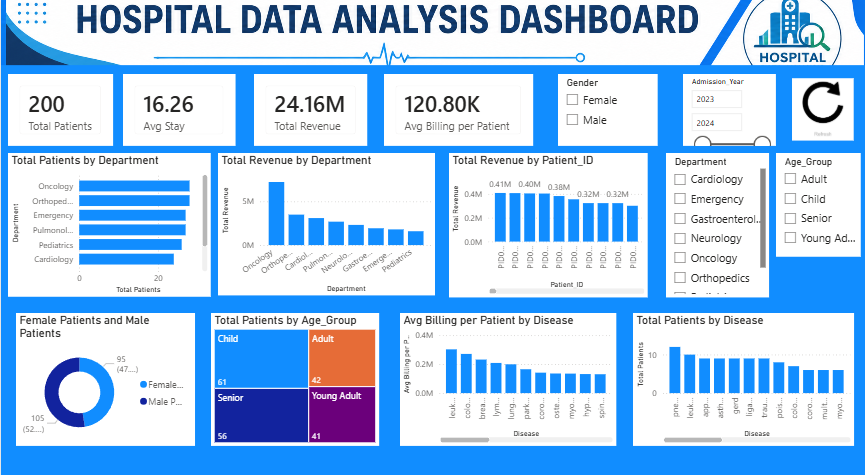

The page's visual inventory and layout, read from the dashboard file:
{"tool":"powerbi","page":{"name":"Page 1","canvas":[1280,720],"ordinal":0},"visuals":[{"type":"cardVisual","fields":{"Data":["cleaned_hospital_data.Total Patients"]},"box":[0,112,154.5,106.3],"z":0},{"type":"cardVisual","fields":{"Data":["cleaned_hospital_data.Avg Stay"]},"box":[180,112,165.8,106.3],"z":1000},{"type":"cardVisual","fields":{"Data":["cleaned_hospital_data.Total Revenue"]},"box":[372.8,112,167.3,106.3],"z":2000},{"type":"cardVisual","fields":{"Data":["cleaned_hospital_data.Avg Billing per Patient"]},"box":[564.2,112,219.7,106.3],"z":3000},{"type":"clusteredBarChart","fields":{"Category":["cleaned_hospital_data.Department"],"Y":["cleaned_hospital_data.Total Patients"]},"box":[0,228.2,309,212.6],"z":4000},{"type":"columnChart","fields":{"Category":["cleaned_hospital_data.Department"],"Y":["cleaned_hospital_data.Total Revenue"]},"box":[320.4,228.2,320.4,209.8],"z":5000},{"type":"columnChart","fields":{"Category":["cleaned_hospital_data.Patient_ID"],"Y":["cleaned_hospital_data.Total Revenue"]},"box":[660.6,228.2,293.4,212.6],"z":6000},{"type":"donutChart","fields":{"Y":["cleaned_hospital_data.Female Patients","cleaned_hospital_data.Male Patients"]},"box":[0,465.1,263.5,195.8],"z":7000},{"type":"clusteredColumnChart","fields":{"Y":["cleaned_hospital_data.Avg Billing per Patient"],"Category":["cleaned_hospital_data.Disease"]},"box":[554.2,464.9,318.9,195.6],"z":8000},{"type":"clusteredColumnChart","fields":{"Category":["cleaned_hospital_data.Disease"],"Y":["cleaned_hospital_data.Total Patients"]},"box":[907.2,464.9,326,195.6],"z":9000},{"type":"slicer","fields":{"Values":["cleaned_hospital_data.Department"]},"box":[980.9,228.2,151.7,212.6],"z":10000},{"type":"slicer","fields":{"Values":["cleaned_hospital_data.Gender"]},"box":[820.7,112,147.4,106.3],"z":11000},{"type":"slicer","fields":{"Values":["cleaned_hospital_data.Admission_Year"]},"box":[1005,112,137.5,106.3],"z":12000},{"type":"slicer","fields":{"Values":["cleaned_hospital_data.Age_Group"]},"box":[1142.5,228.2,137.5,153.1],"z":13000},{"type":"treemap","fields":{"Group":["cleaned_hospital_data.Age_Group"],"Values":["cleaned_hospital_data.Total Patients"]},"box":[292,464.9,248.1,195.6],"z":14000},{"type":"image","box":[0,0,1280,99.2],"z":15001},{"type":"image","box":[1165.9,100.1,91.3,128.2],"z":15002}]}

Visuals, with their boxes in screenshot pixels (x1, y1, x2, y2), scaled from the page's 1280x720 canvas onto the 865x475 screenshot:
cardVisual - cleaned_hospital_data.Total Patients: box(0, 74, 104, 144)
cardVisual - cleaned_hospital_data.Avg Stay: box(122, 74, 234, 144)
cardVisual - cleaned_hospital_data.Total Revenue: box(252, 74, 365, 144)
cardVisual - cleaned_hospital_data.Avg Billing per Patient: box(381, 74, 530, 144)
clusteredBarChart - cleaned_hospital_data.Department x cleaned_hospital_data.Total Patients: box(0, 151, 209, 291)
columnChart - cleaned_hospital_data.Department x cleaned_hospital_data.Total Revenue: box(217, 151, 433, 289)
columnChart - cleaned_hospital_data.Patient_ID x cleaned_hospital_data.Total Revenue: box(446, 151, 645, 291)
donutChart - cleaned_hospital_data.Female Patients x cleaned_hospital_data.Male Patients: box(0, 307, 178, 436)
clusteredColumnChart - cleaned_hospital_data.Avg Billing per Patient x cleaned_hospital_data.Disease: box(375, 307, 590, 436)
clusteredColumnChart - cleaned_hospital_data.Disease x cleaned_hospital_data.Total Patients: box(613, 307, 833, 436)
slicer - cleaned_hospital_data.Department: box(663, 151, 765, 291)
slicer - cleaned_hospital_data.Gender: box(555, 74, 654, 144)
slicer - cleaned_hospital_data.Admission_Year: box(679, 74, 772, 144)
slicer - cleaned_hospital_data.Age_Group: box(772, 151, 864, 252)
treemap - cleaned_hospital_data.Age_Group x cleaned_hospital_data.Total Patients: box(197, 307, 365, 436)
image: box(0, 0, 864, 65)
image: box(788, 66, 850, 151)
